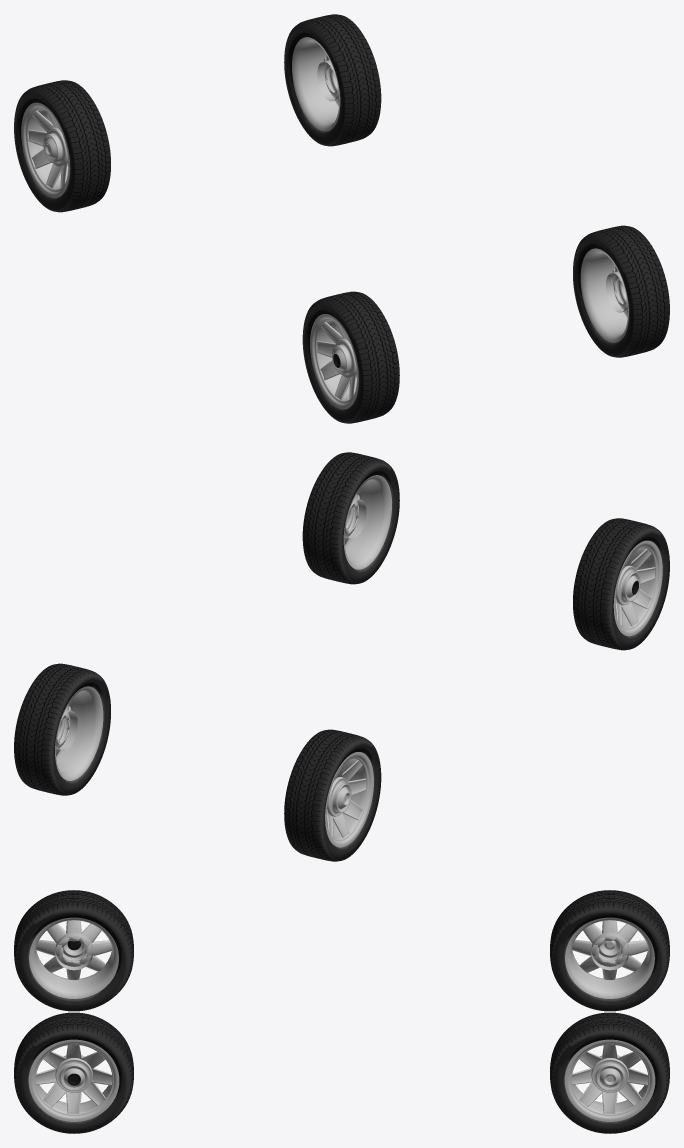
File: CuatroRuedas.obj
The picture shows the model from 3 angles, top to bottom: view 1: azimuth 30°, elevation 25°; view 2: azimuth 150°, elevation 25°; view 3: azimuth 270°, elevation 25°; orthographic projection. The views are drawn at different scales.
Visible parts, largest first — view 1: Object_227, Object_223, Object_226; view 2: Object_227, Object_223, Object_226; view 3: Object_223, Object_226, Object_227.
Boxes of the visible parts, x1,y1,x2,y2 form: Object_227: (14,14,669,423); Object_223: (21,37,628,409); Object_226: (14,25,633,421); Object_227: (14,452,669,861); Object_223: (55,475,662,847); Object_226: (50,463,669,859); Object_223: (28,917,655,1121); Object_226: (17,907,666,1132); Object_227: (14,890,669,1133).
Bounding box in the file's own units: 0.7032 × 0.2559 × 1.4.
Materials: 4 (2 with a texture image).
